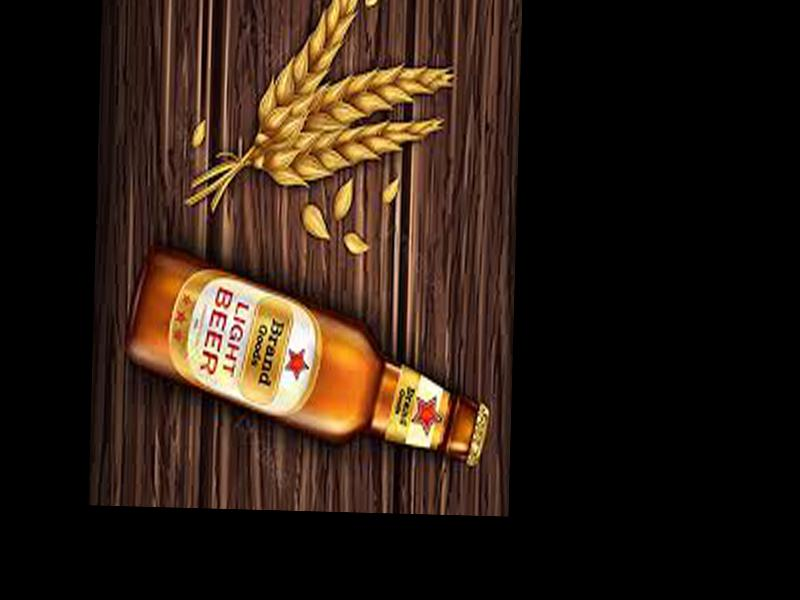Beer: (124, 247, 494, 469)
